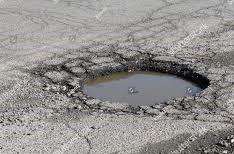alligator-crack: (100, 26, 234, 56), (30, 57, 72, 92)
pothole: (75, 59, 211, 113)
